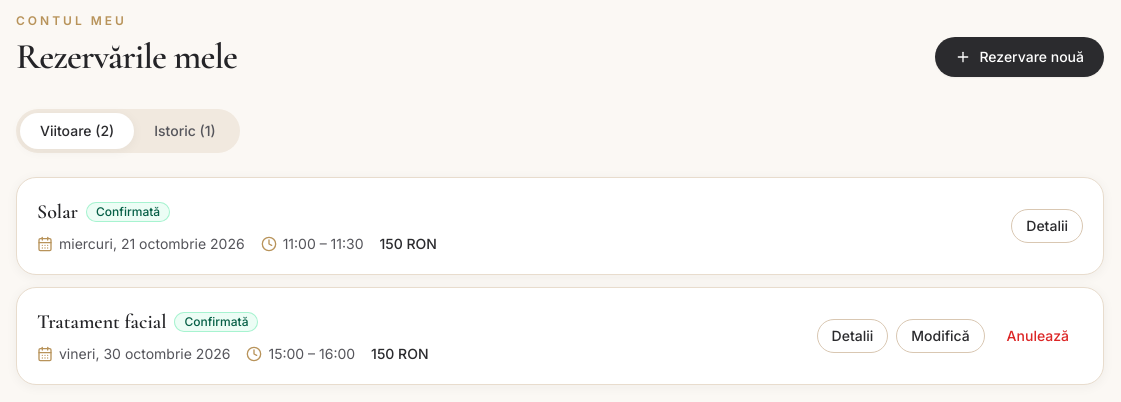
My reservations – cancellation › lists upcoming reservations with status and price, history in another tab
The image size is (1121, 402).
Expected: the text "Confirmată" next to "Tratament facial" is shown, [184,314,248,329]
Expected: the text "150 RON" next to "16:00" is shown, [371,345,428,362]
Click the tab "Istoric (1)": (185, 131) [134,113,236,149]
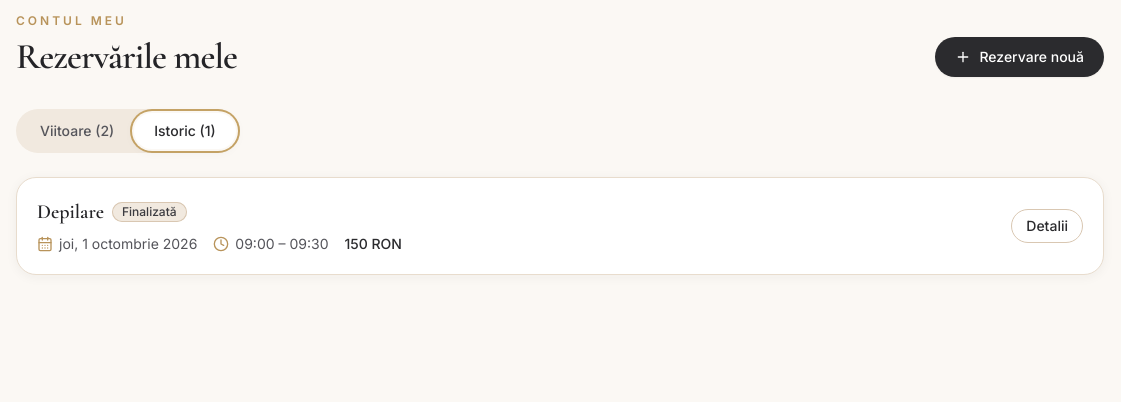
Now the heading "Depilare" is shown, box [37,198,104,226]
